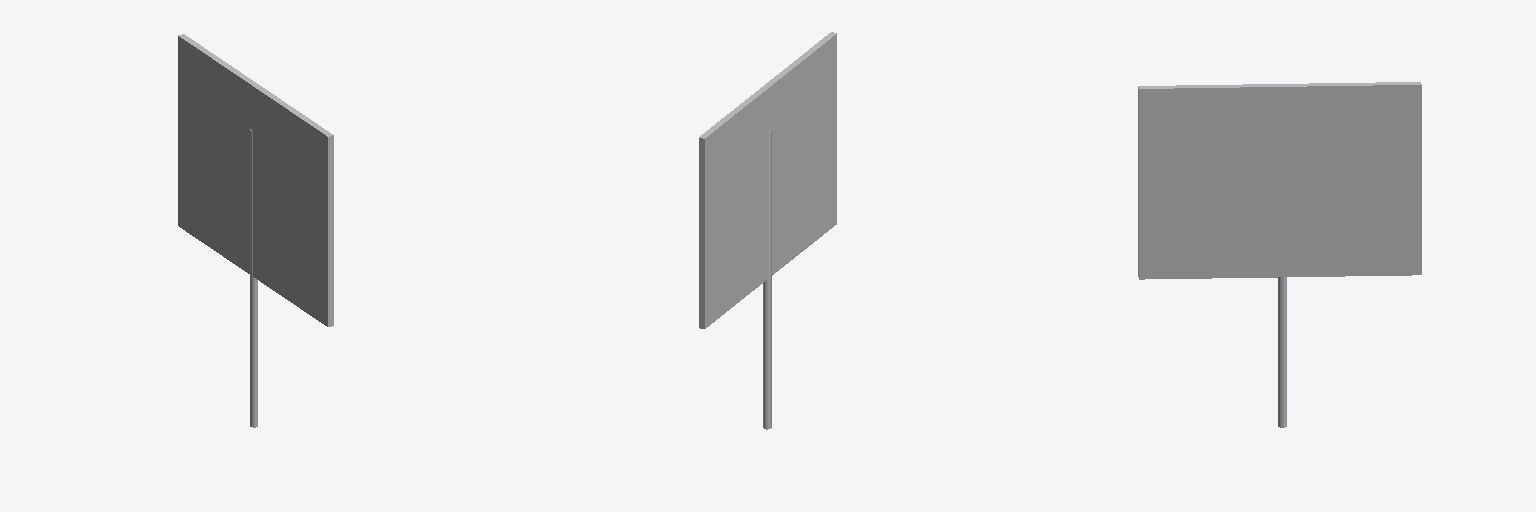
The model's file is board_28.obj.
The picture shows the model from 3 angles: view 1: azimuth 30°, elevation 25°; view 2: azimuth 150°, elevation 25°; view 3: azimuth 270°, elevation 25°; orthographic projection.
Visible parts, largest first — view 1: Cube.032_Cube.033, Cylinder.032; view 2: Cube.032_Cube.033, Cylinder.032; view 3: Cube.032_Cube.033, Cylinder.032.
Part boxes in pixels (bbox=[...]): Cube.032_Cube.033: bbox=[178, 34, 333, 326]; Cylinder.032: bbox=[250, 129, 257, 427]; Cube.032_Cube.033: bbox=[699, 32, 836, 328]; Cylinder.032: bbox=[763, 131, 771, 429]; Cube.032_Cube.033: bbox=[1138, 82, 1421, 279]; Cylinder.032: bbox=[1278, 277, 1286, 427].
Bounding box in the file's own units: 0.0073 × 0.1615 × 0.1215.